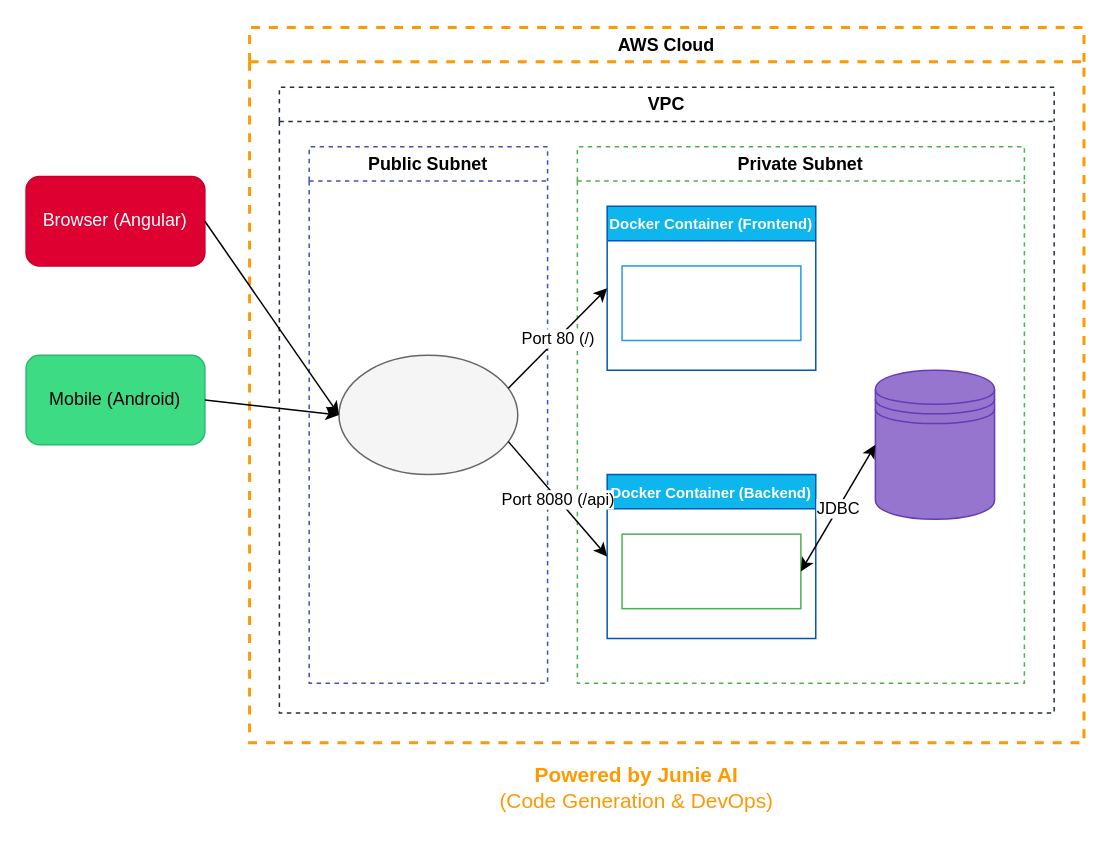
The diagram is 1112 pixels wide and 842 high, and some of its shapes have lost their labels. The centre of each missing label's shape, as x and y in pixels:
"Application Load Balancer (ALB)" belongs at point (427, 414).
"Nginx / Angular" belongs at point (711, 302).
"RDS (PostgreSQL)" belongs at point (934, 444).
"Spring Boot" belongs at point (711, 571).
